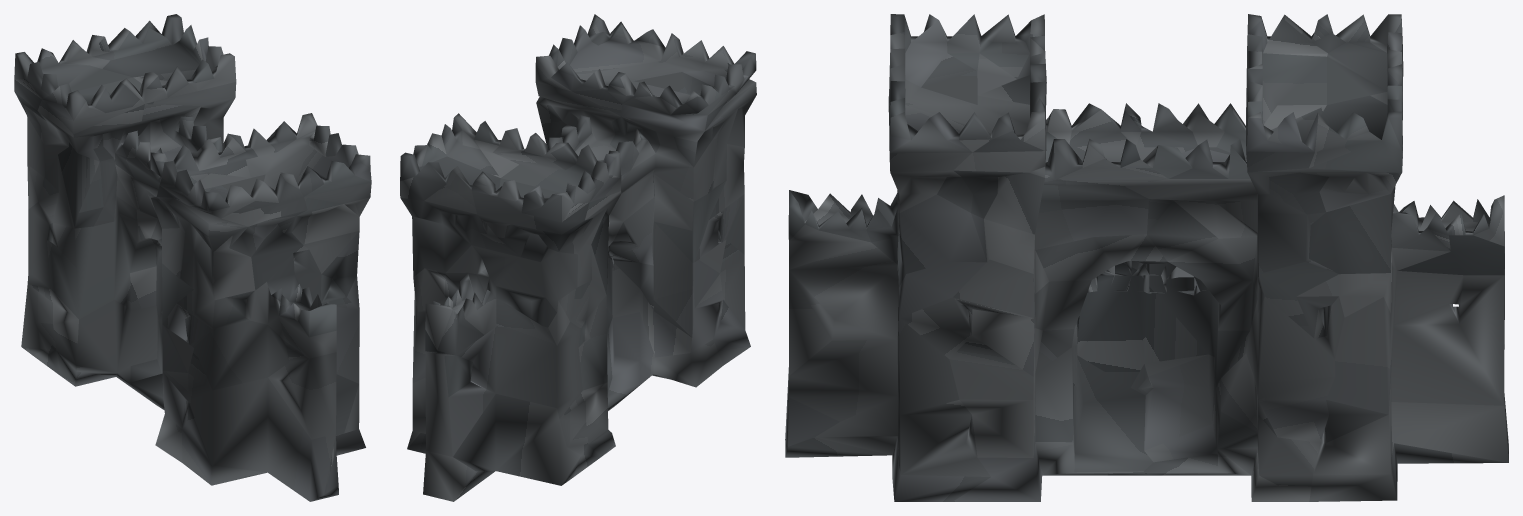
Rendered from castle_gate_stone_lo.glb.
3 views of the same model, side by side, from view 1: azimuth 30°, elevation 25°; view 2: azimuth 150°, elevation 25°; view 3: azimuth 270°, elevation 25° (orthographic). The views are drawn at different scales.
Parts seen in each view (by area): view 1: tripo_node_3b004a20-0374-40e4-b3be-526f84e99a32; view 2: tripo_node_3b004a20-0374-40e4-b3be-526f84e99a32; view 3: tripo_node_3b004a20-0374-40e4-b3be-526f84e99a32.
Boxes of the visible parts, bbox=[...] form: tripo_node_3b004a20-0374-40e4-b3be-526f84e99a32: bbox=[14, 14, 371, 501]; tripo_node_3b004a20-0374-40e4-b3be-526f84e99a32: bbox=[400, 14, 756, 501]; tripo_node_3b004a20-0374-40e4-b3be-526f84e99a32: bbox=[785, 14, 1508, 501].
Bounding box in the file's own units: 0.3372 × 0.5777 × 0.9799.
1 material, 1 textured.
